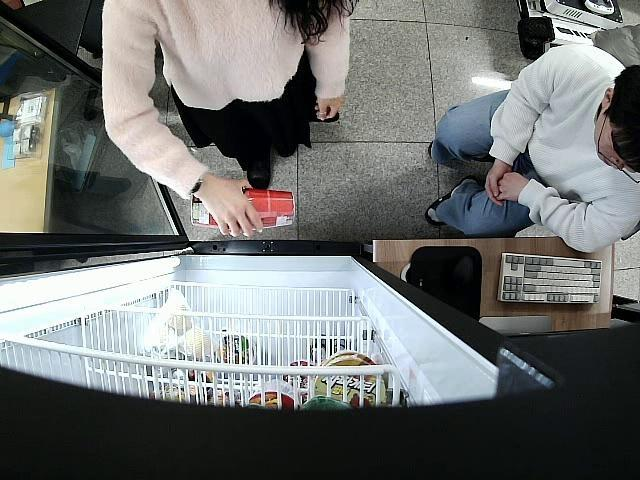02_shinRamen_S: (188, 186, 242, 230), (244, 188, 295, 234)
